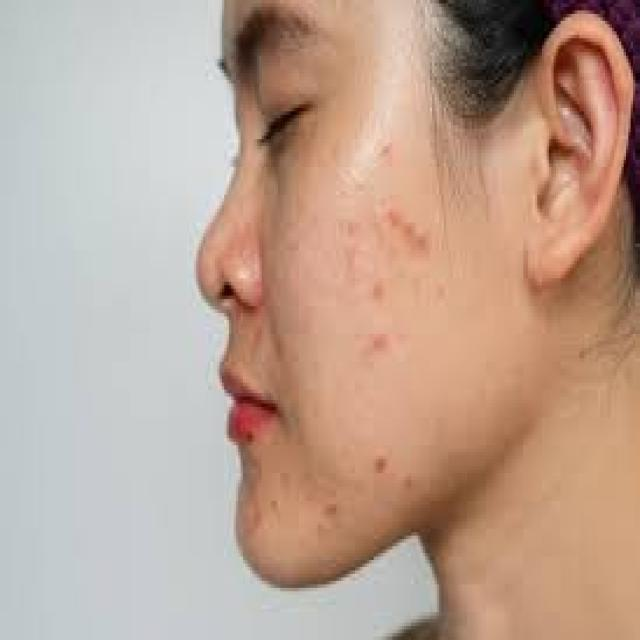acne: (350, 180, 418, 505)
oily: (239, 15, 598, 640)
